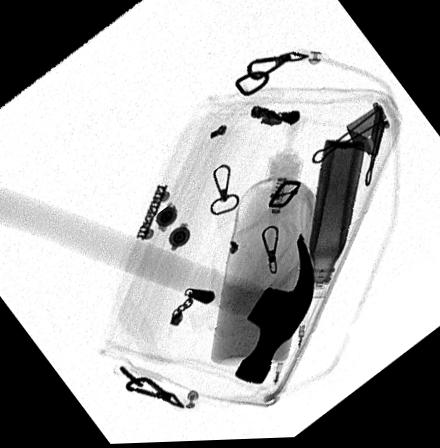Hammer: (0, 186, 315, 387)
